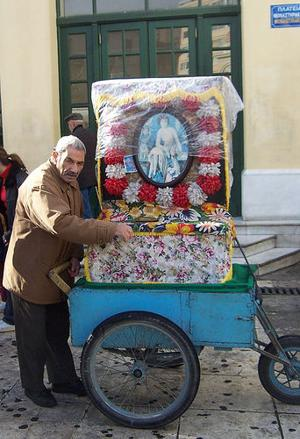person: (3, 131, 135, 414)
